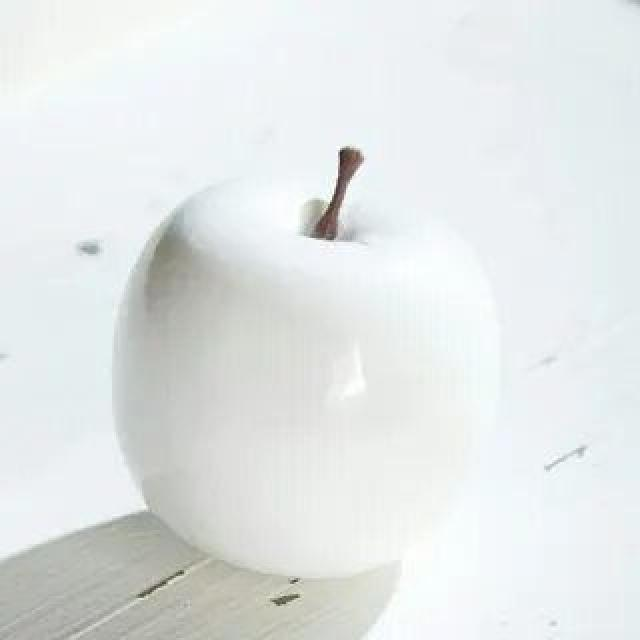Rotten: (126, 174, 472, 564)
